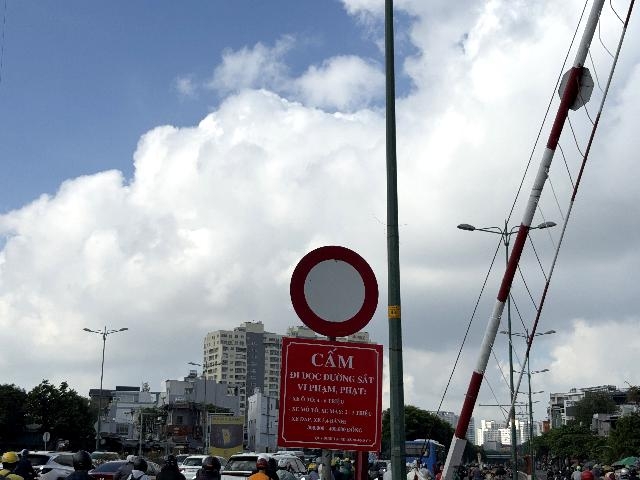duong-cam: (290, 245, 379, 338)
